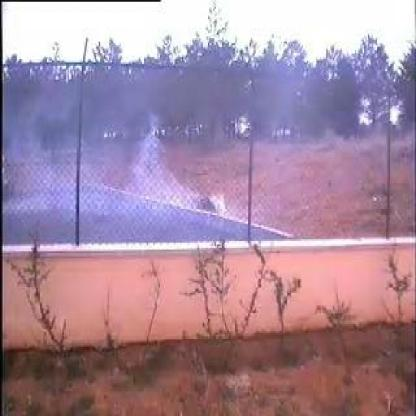-: (78, 73, 255, 246)
